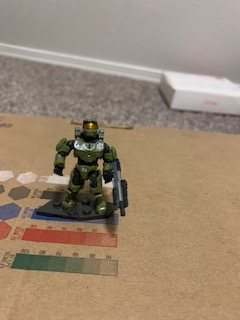chief: (54, 117, 117, 219)
rifle: (106, 158, 132, 219)
spartan: (52, 115, 115, 217)
